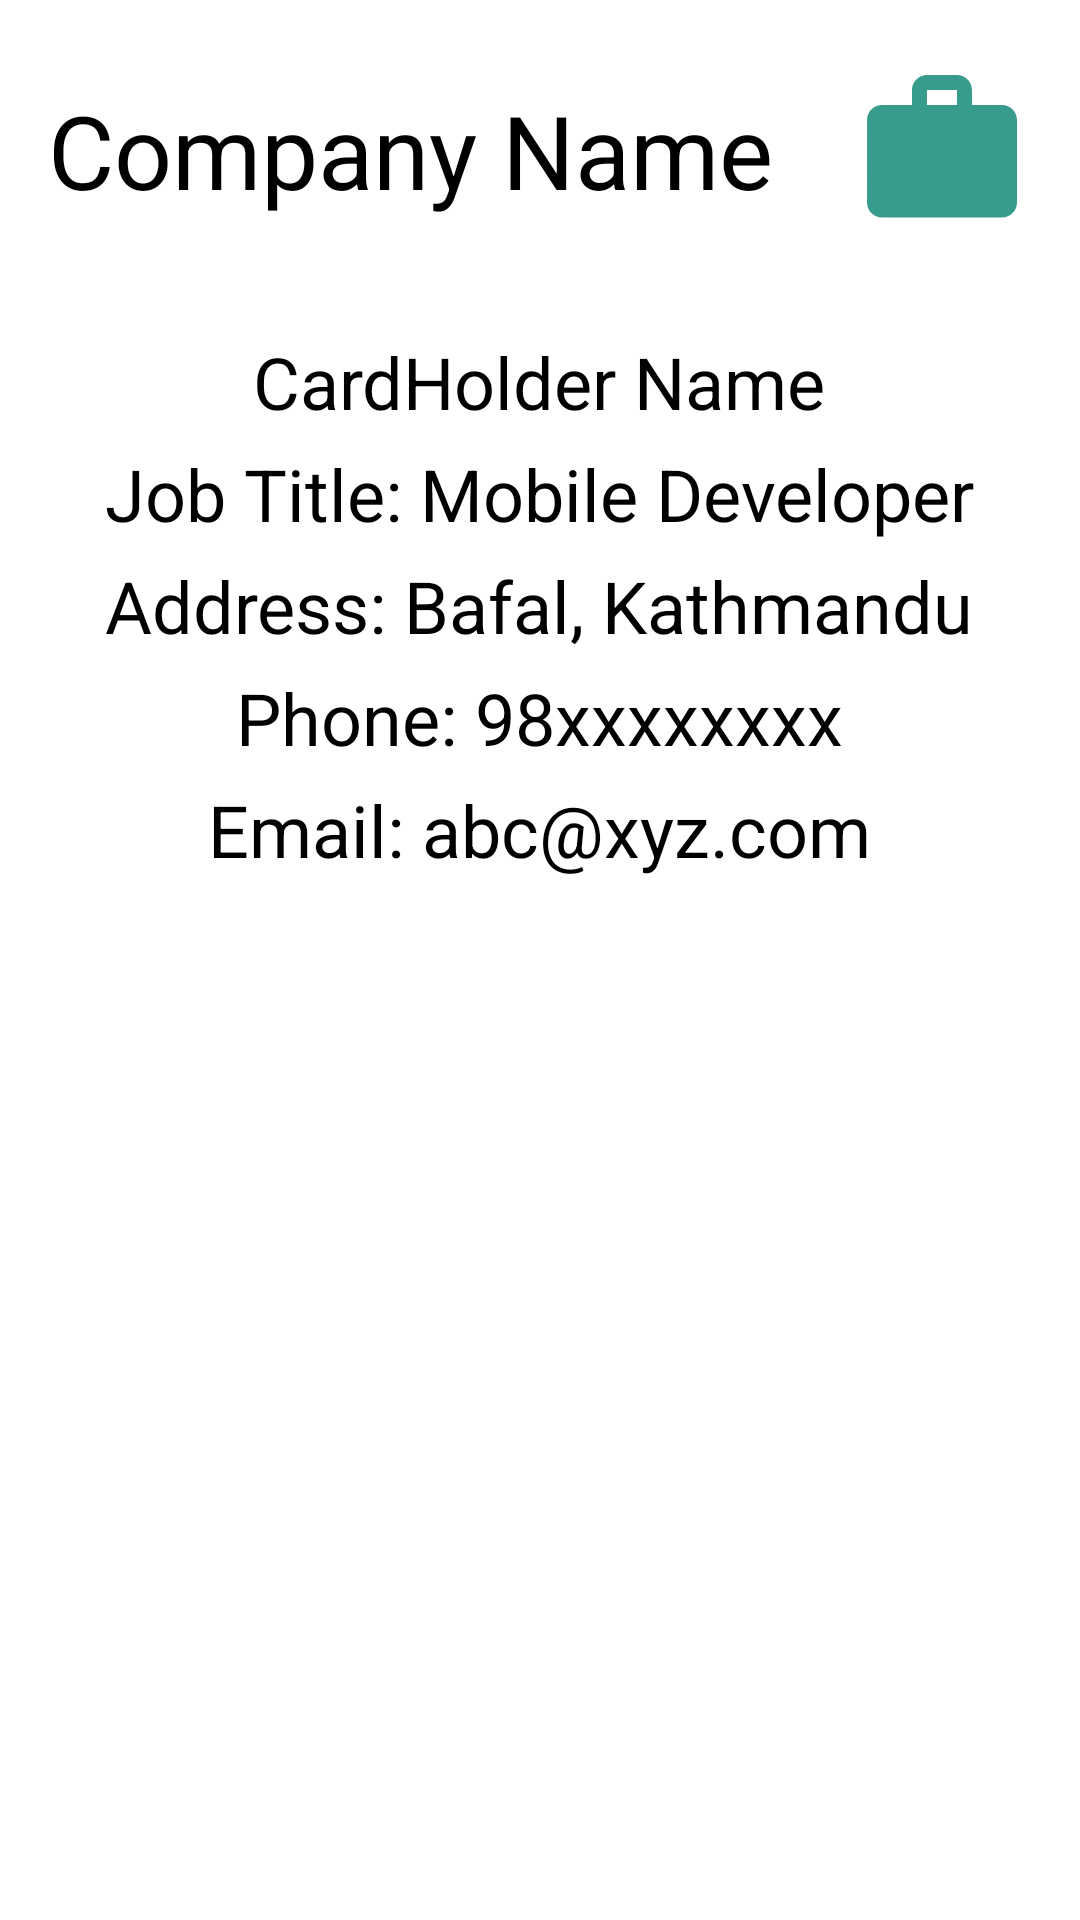

Locate icon controls on the screen. Image size 1080 x 1920, boxes as (x1, y1, x2, y2).
work: (867, 75, 1017, 218)
